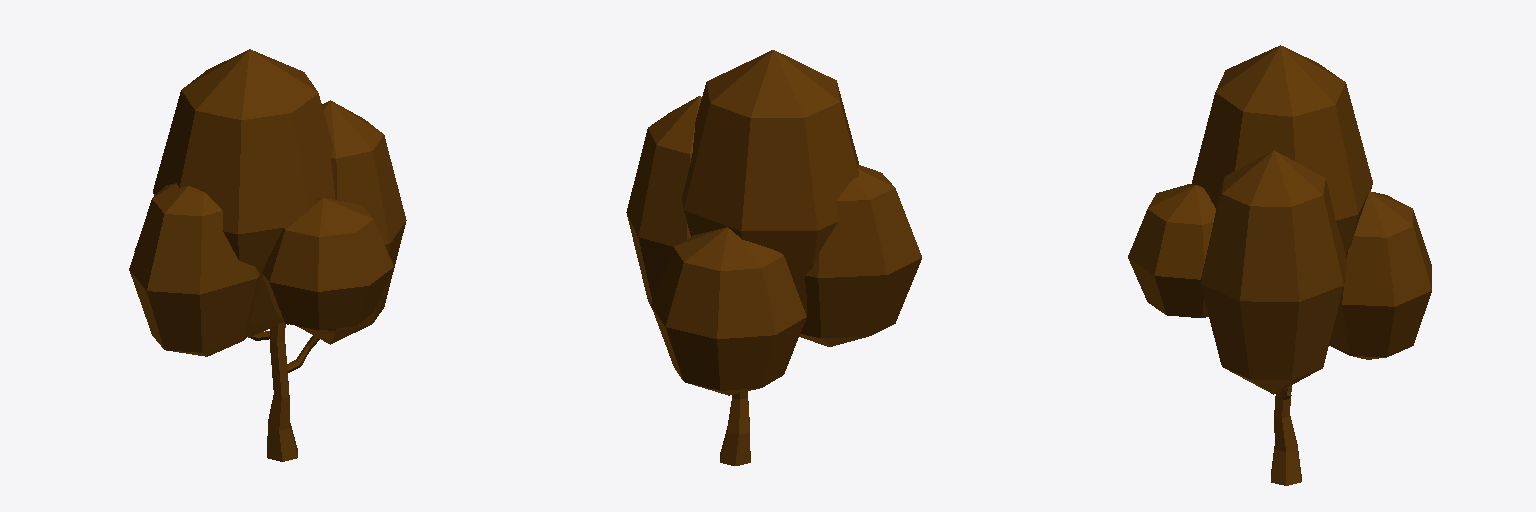
The model's file is Tree2.obj.
3 renders of one model, left to right at view 1: azimuth 30°, elevation 25°; view 2: azimuth 150°, elevation 25°; view 3: azimuth 270°, elevation 25°, orthographic.
Visible parts, largest first — view 1: Tree_002; view 2: Tree_002; view 3: Tree_002.
Boxes of the visible parts, x1,y1,x2,y2 form: Tree_002: [129, 49, 406, 461]; Tree_002: [626, 50, 921, 465]; Tree_002: [1128, 45, 1431, 485].
Bounding box in the file's own units: 88.56 × 133 × 88.53.